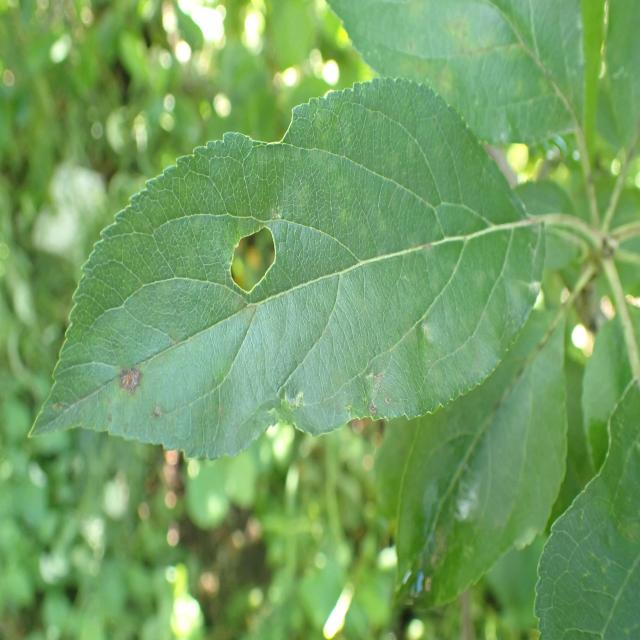scab: (52, 192, 457, 460), (365, 0, 527, 149)
